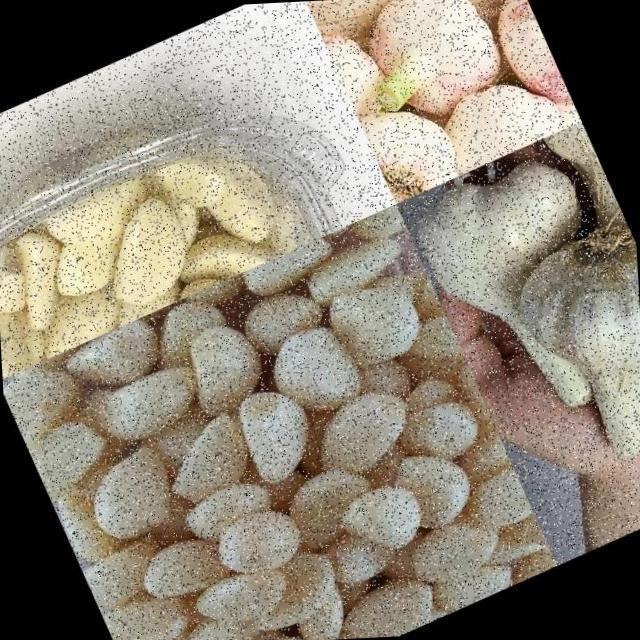garlic: (0, 196, 559, 640), (0, 126, 309, 381), (395, 133, 640, 443), (491, 210, 640, 480), (335, 0, 517, 145), (422, 53, 574, 178), (312, 0, 419, 166), (532, 119, 636, 264), (469, 0, 578, 134), (356, 84, 467, 204), (607, 302, 640, 509)
